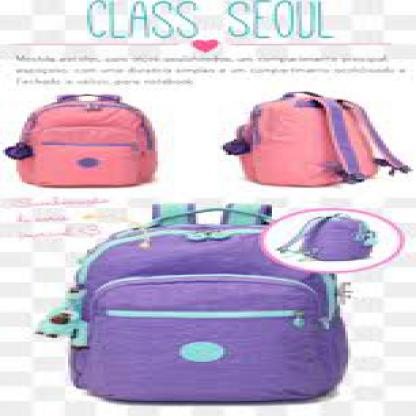morral: (6, 198, 414, 411), (218, 87, 414, 195), (3, 90, 176, 196)
